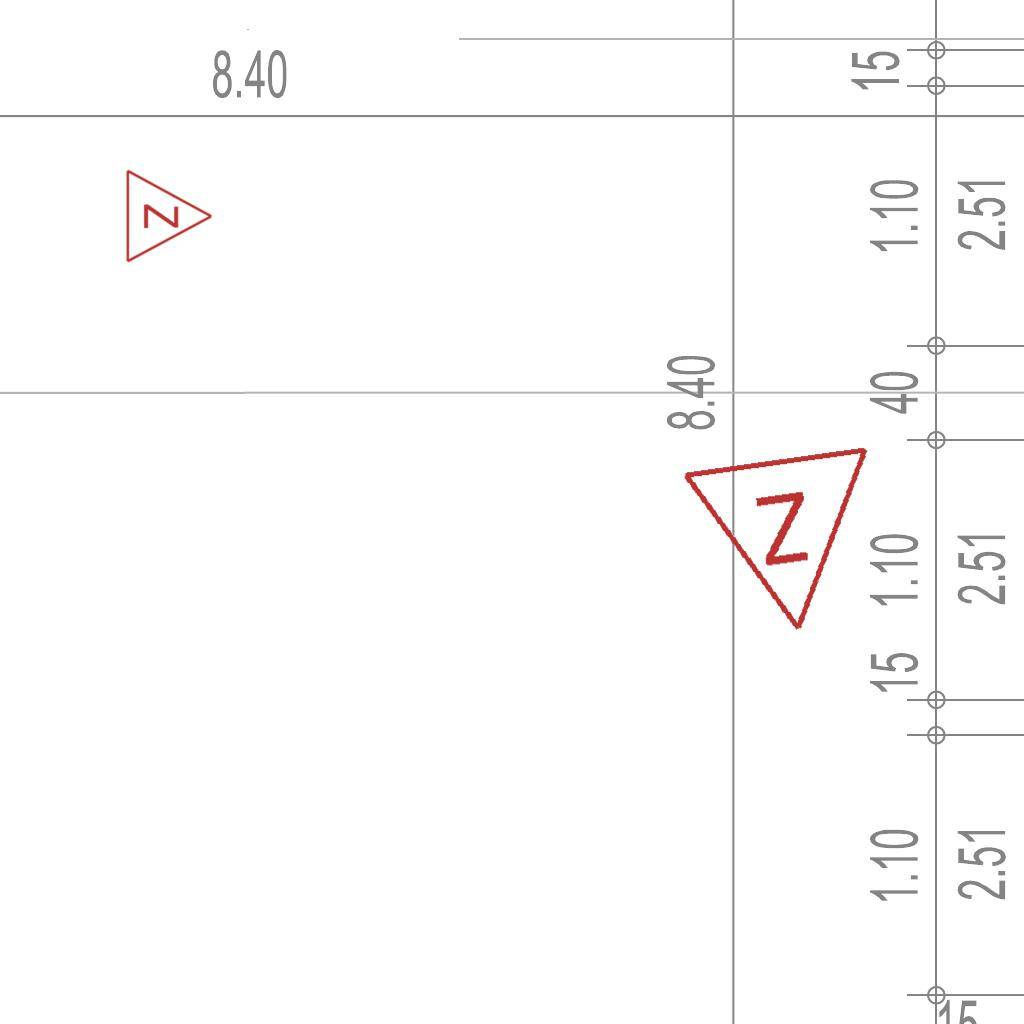Zimmersignalleuchte: (678, 431, 900, 657), (119, 166, 219, 264)
